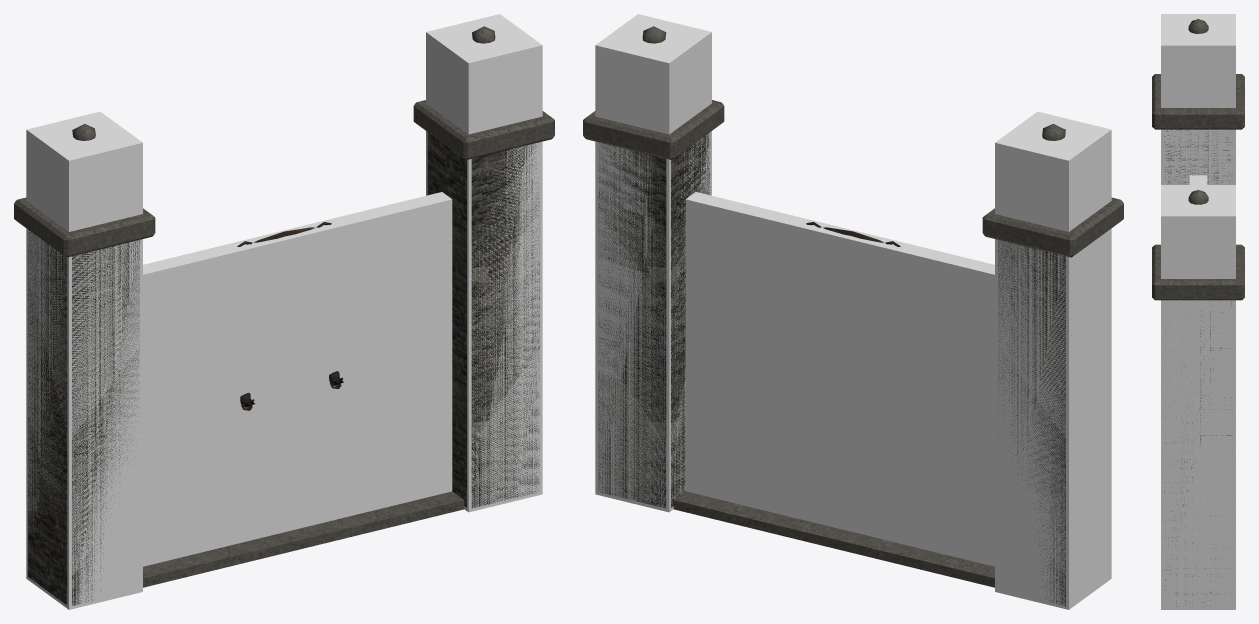
File: iron_gate_gothic_v1_lite.glb
The picture shows the model from 3 angles, left to right: view 1: azimuth 30°, elevation 25°; view 2: azimuth 150°, elevation 25°; view 3: azimuth 270°, elevation 25°; orthographic projection. The views are drawn at different scales.
Visible parts, largest first — view 1: col_gate_closed, piers, col_pier_L, col_pier_R; view 2: col_gate_closed, col_pier_L, piers, col_pier_R; view 3: col_pier_R, col_pier_L, piers, col_gate_closed.
Boxes of the visible parts, left/top/right/bottom form: col_gate_closed: left=143, top=192, right=452, bottom=566; piers: left=14, top=26, right=554, bottom=605; col_pier_L: left=26, top=111, right=142, bottom=609; col_pier_R: left=426, top=14, right=542, bottom=512; col_gate_closed: left=685, top=192, right=994, bottom=566; col_pier_L: left=995, top=111, right=1111, bottom=609; piers: left=583, top=26, right=1123, bottom=605; col_pier_R: left=595, top=14, right=711, bottom=512; col_pier_R: left=1161, top=185, right=1235, bottom=609; col_pier_L: left=1161, top=14, right=1235, bottom=184; piers: left=1152, top=19, right=1244, bottom=606; col_gate_closed: left=1189, top=175, right=1207, bottom=184.
Size of the model in its own units: 3.32 by 2.99 by 0.62.
Materials: 4 (4 with a texture image).
